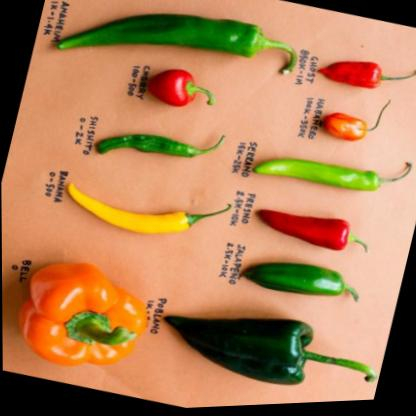--: (150, 282, 387, 411), (49, 0, 307, 109), (57, 156, 237, 260), (250, 123, 416, 216), (96, 103, 235, 189), (246, 246, 383, 319), (249, 194, 383, 264)
